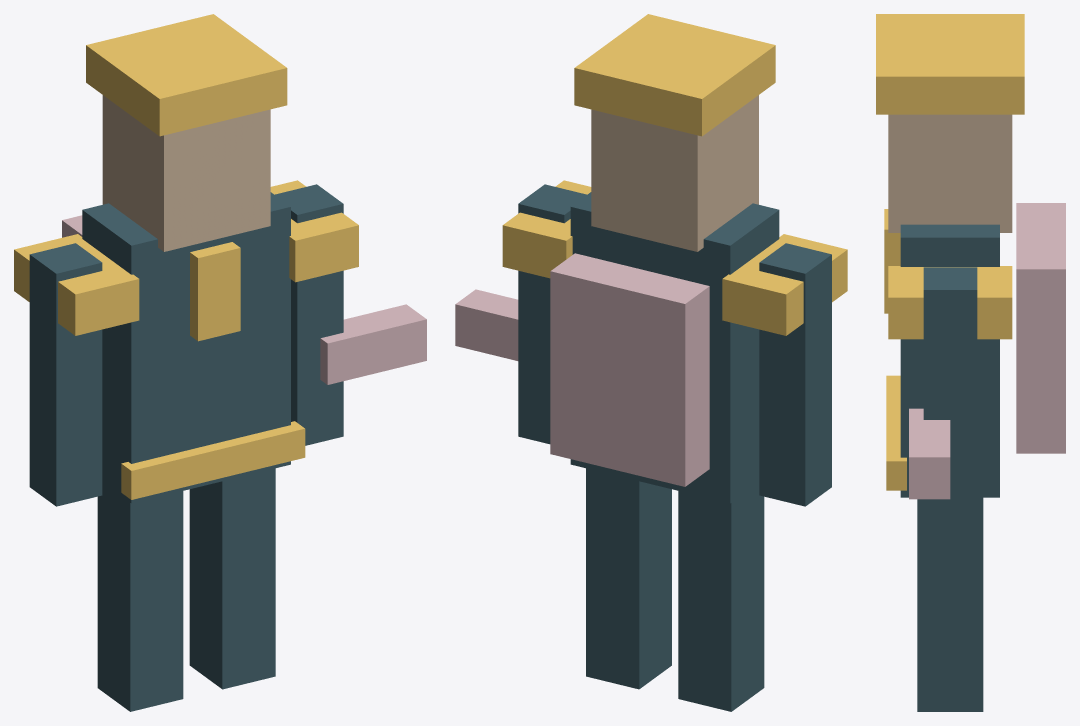
The model's file is 01_elo_voidrill_smith_of_roots.glb.
3 renders of one model, left to right at view 1: azimuth 30°, elevation 25°; view 2: azimuth 150°, elevation 25°; view 3: azimuth 270°, elevation 25°, orthographic.
Parts seen in each view (by area): view 1: Elo Voidrill, Smith of Roots; view 2: Elo Voidrill, Smith of Roots; view 3: Elo Voidrill, Smith of Roots.
Part boxes in pixels (x1,y1,x2,y2): Elo Voidrill, Smith of Roots: (14, 14, 426, 711); Elo Voidrill, Smith of Roots: (455, 14, 847, 711); Elo Voidrill, Smith of Roots: (876, 14, 1065, 711).
Size of the model in its own units: 1.02 by 1.68 by 0.459.
